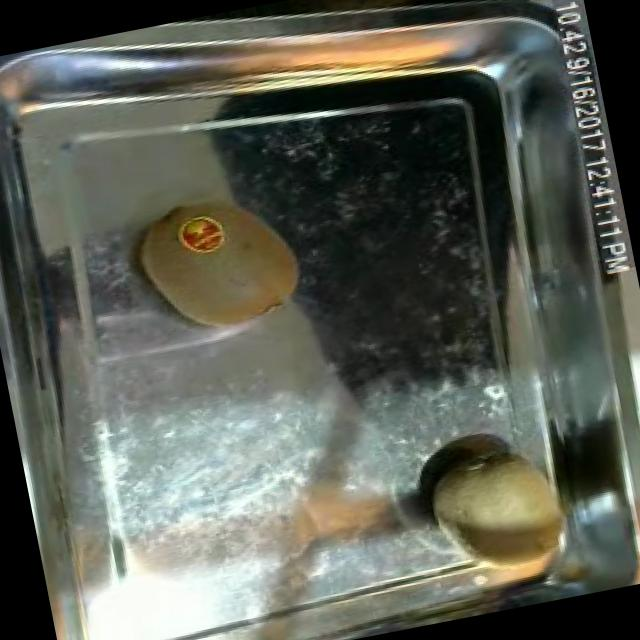Fruit: (406, 420, 590, 620), (120, 182, 322, 358)
